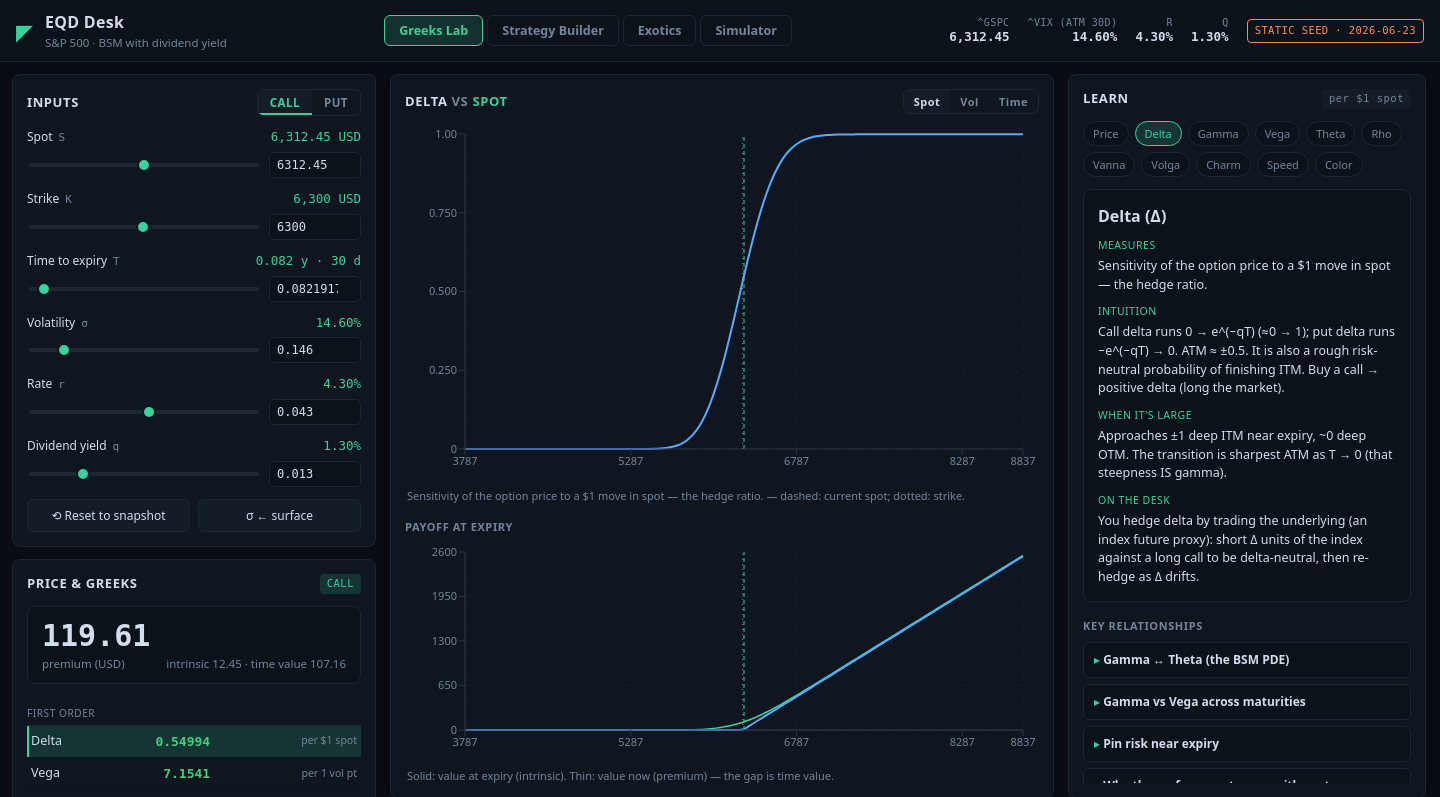
App (Greeks Lab) smoke test › selecting a greek updates the education card
Expected: the heading "Delta (Δ)" is shown, [1098, 205, 1166, 227]
# click the Gamma chip
Click the button with class "chip" showing "Gamma": (1218, 134) [1188, 121, 1249, 146]
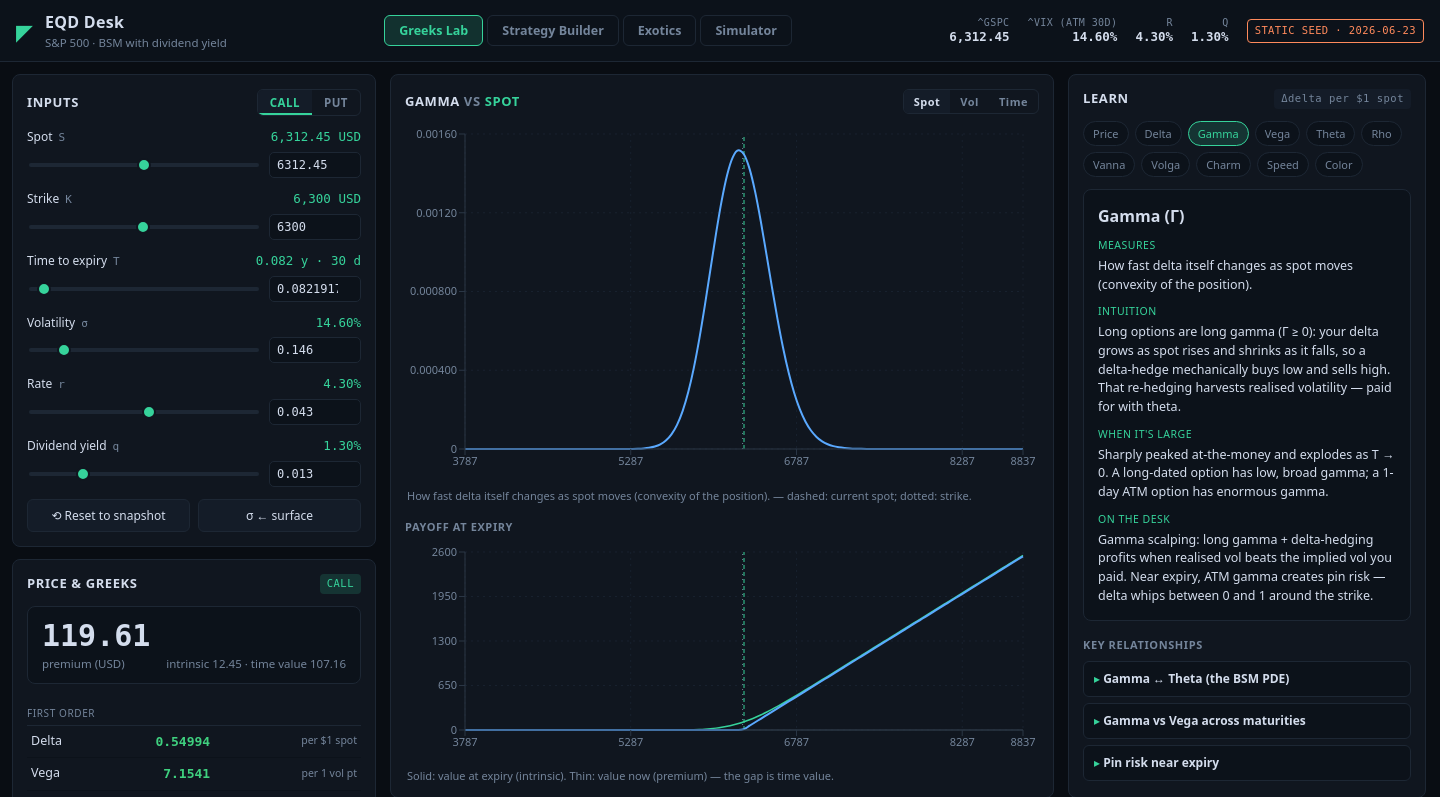
Result: the heading "Gamma (Γ)" is shown at [1098, 205, 1184, 227]
